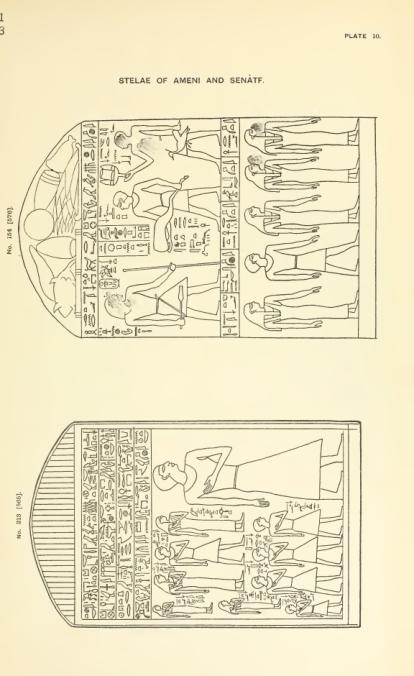circle: (97, 277, 121, 290)
